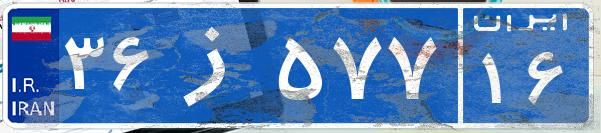1: (475, 38, 525, 113)
3: (57, 26, 110, 107)
5: (273, 28, 330, 110)
6: (110, 28, 158, 105), (525, 38, 570, 115)
7: (385, 28, 445, 110), (330, 28, 385, 110)
ز: (158, 15, 273, 115)
